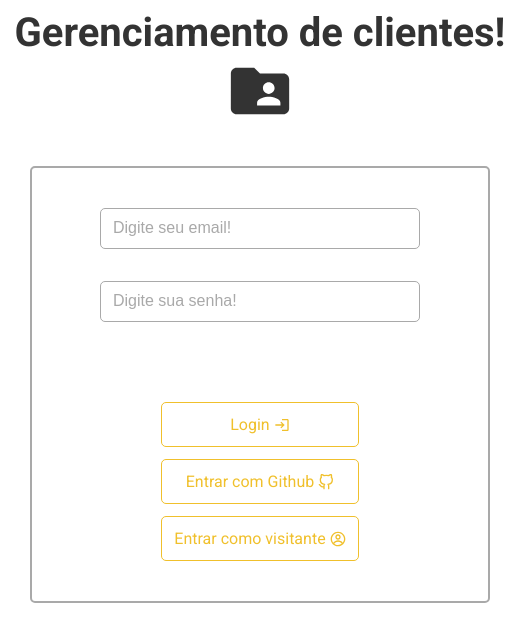
it: submits login form with invalid data
Step 1. Click the button "Login" → (260, 424), box [161,402,359,447]
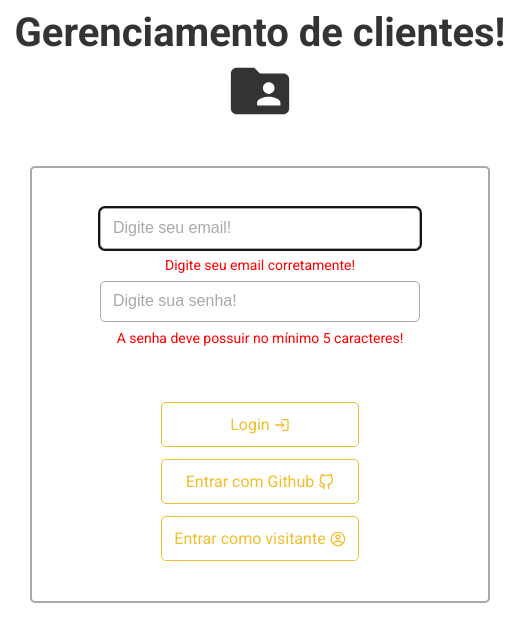
Expected: the text "Digite seu email corretamente!" is shown, [165,257,355,273]
Expected: the text "A senha deve possuir no mínimo 5 caracteres!" is shown, [117,330,403,346]
